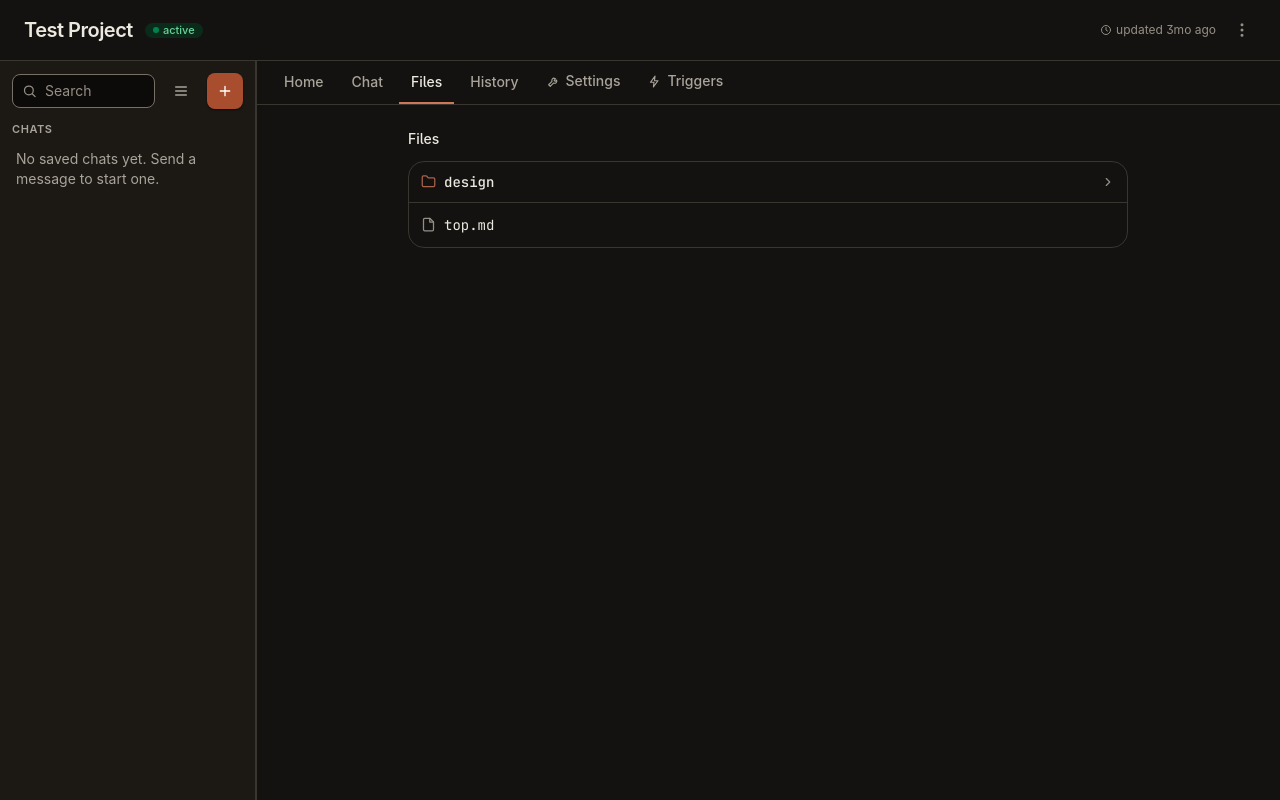
Scenario: ProjectView: files + pin-as-tab › clicking a directory descends into it with a nested URL (#259)
The width and height of the screenshot is (1280, 800).
What coordinates should you click on to do the following:
click the button "design"
I would click on:
 (469, 182)
Its box is [421,172,1115,192].
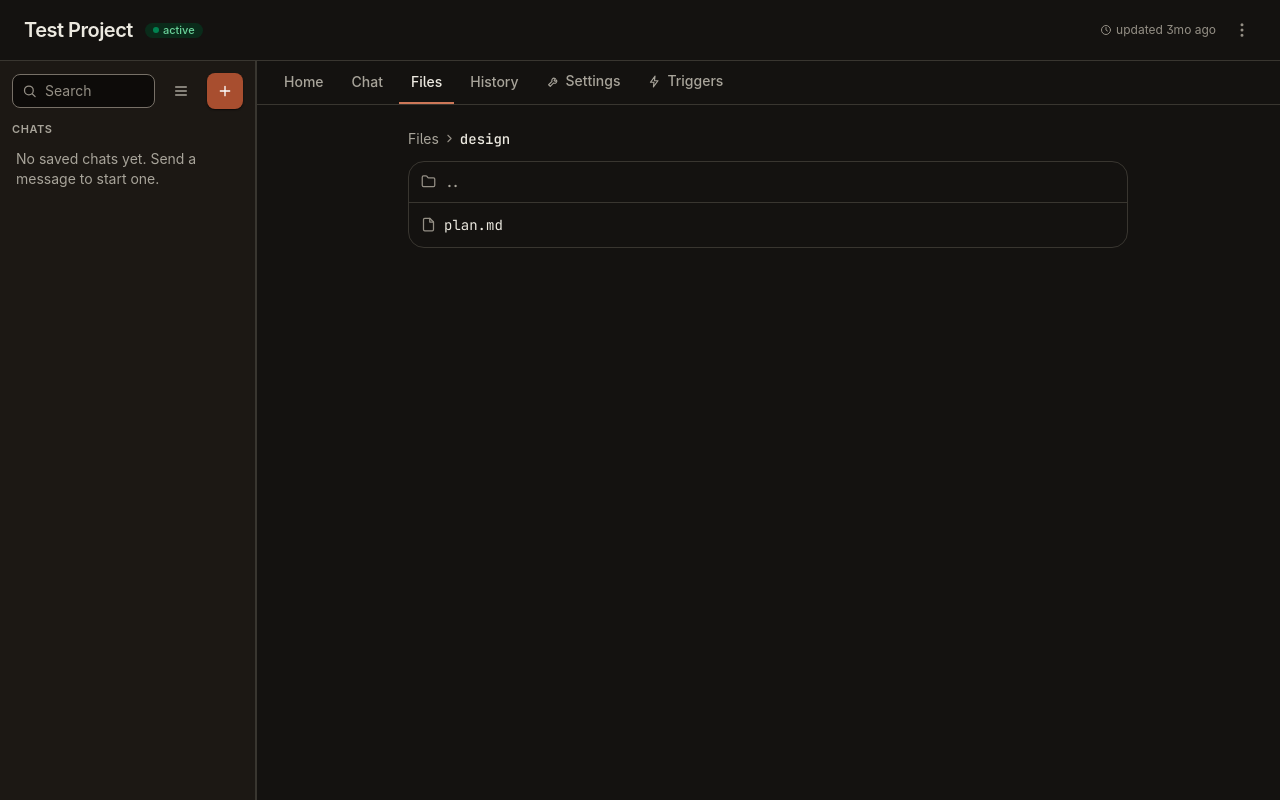
Result: the text "plan.md" is shown at [444,214,503,234]
Result: the text ".." is shown at [444,172,461,192]
Note: Going up returns to the root listing.
What coordinates should you click on to do the following:
click the button ".."
I would click on:
 (428, 182)
Its box is [409,162,1127,202].
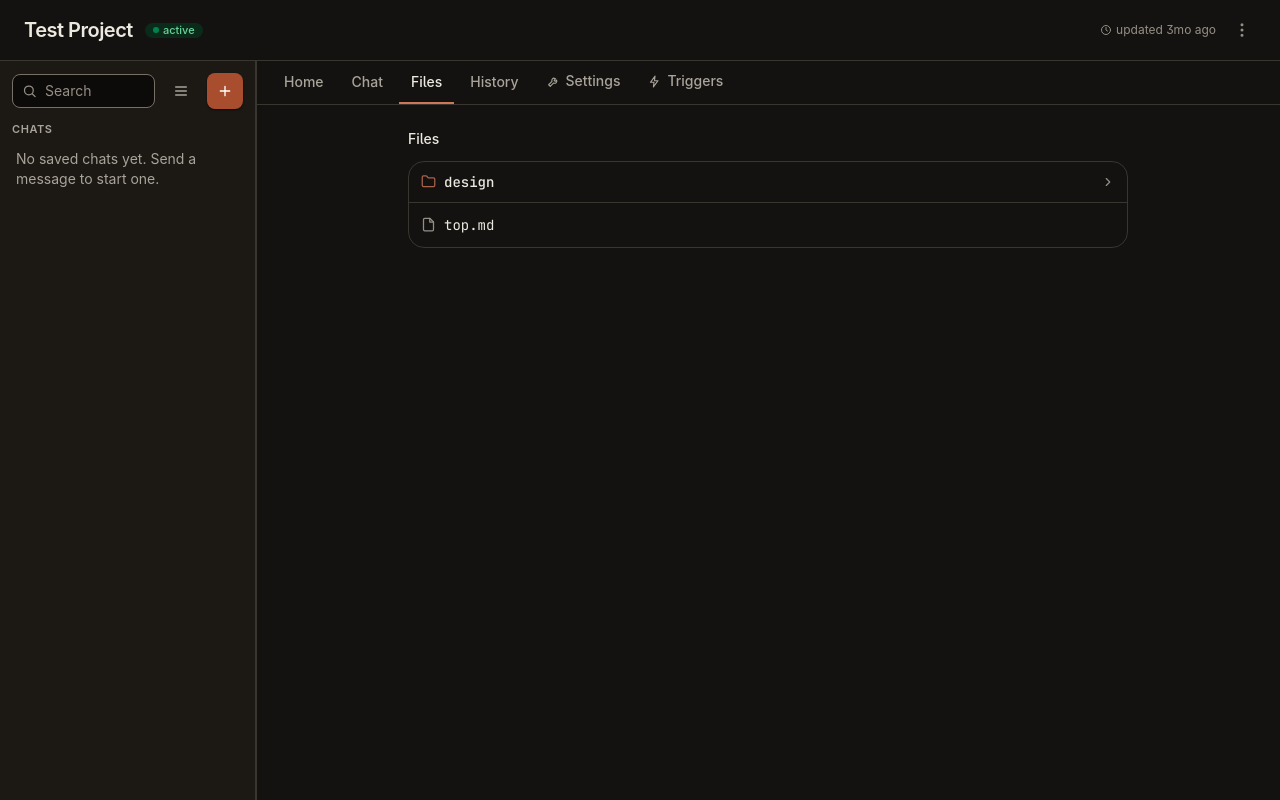
Result: the text "top.md" is shown at [444,214,494,234]
